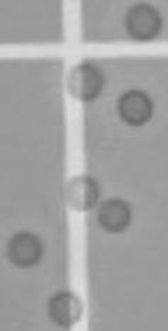cell: (57, 167, 103, 215), (62, 59, 111, 103), (3, 224, 48, 271), (92, 190, 137, 237), (112, 82, 156, 130), (42, 286, 86, 329), (121, 1, 164, 43)
